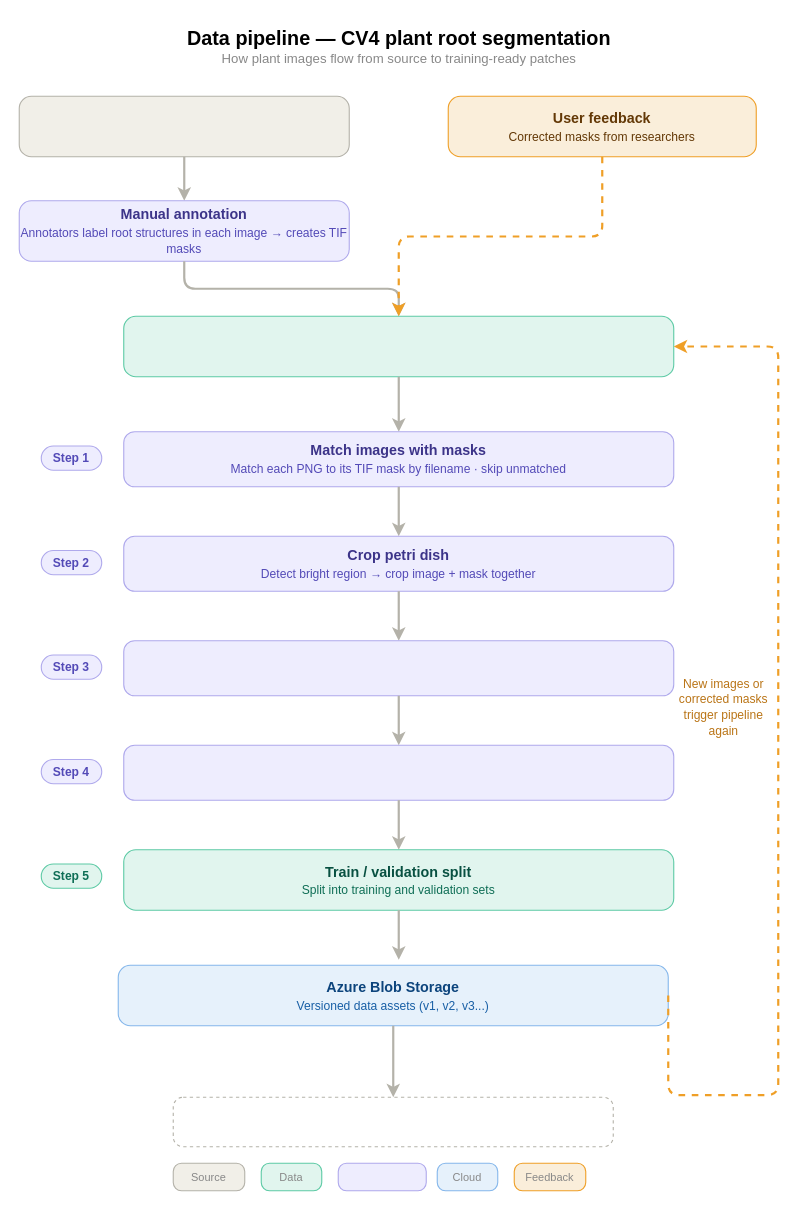
Image size: 807x1210. Some labels were removed from this diagram. Here are the shapes that lost their labels. From the top down, the centre of each, then its label:
At point (183, 126): "NPEC / HADES camera Captures plant images in petri dishes".
At point (398, 346): "Raw images + masks PNG images + TIF root masks".
At point (398, 668): "Pad to patch size Pad to nearest multiple of patch size".
At point (398, 772): "Cut into patches Overlapping patches for model input".
At point (392, 1121): "Ready for model training pipeline".
At point (381, 1176): "Processing".
